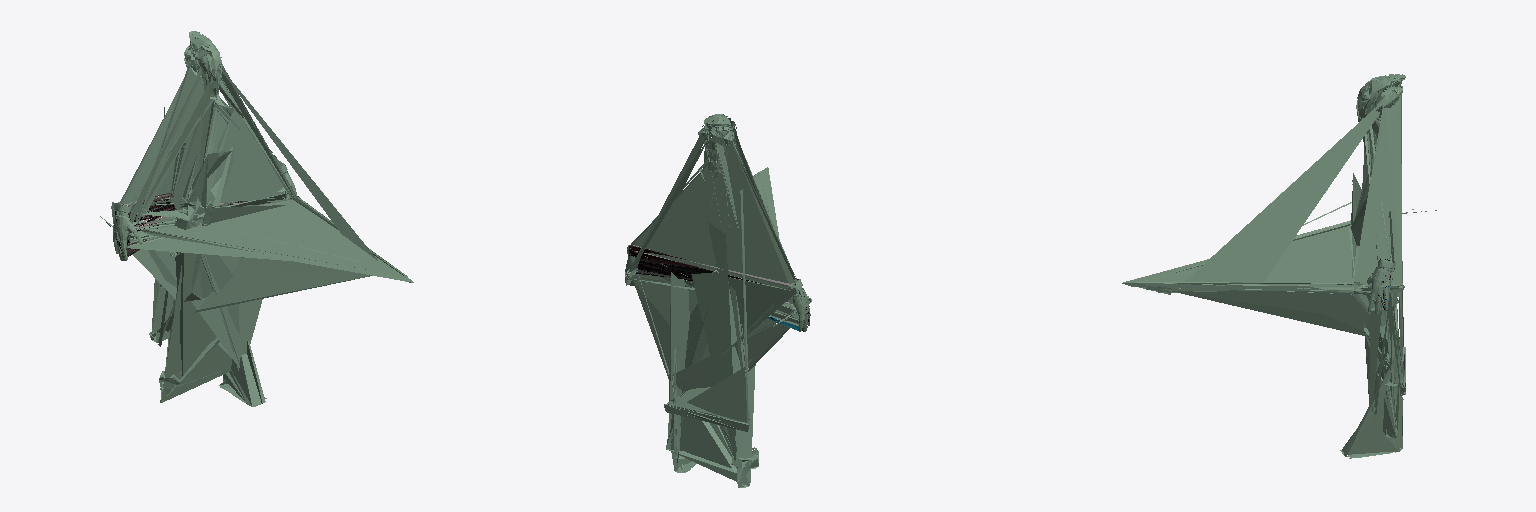
3 views of the same model, side by side, from view 1: azimuth 30°, elevation 25°; view 2: azimuth 150°, elevation 25°; view 3: azimuth 270°, elevation 25° (orthographic).
Parts seen in each view (by area): view 1: Model001_4_Material118_1.0_0.0_0.0, Model001_4_Material151_1.0_0.0_0.0; view 2: Model001_4_Material118_1.0_0.0_0.0, Model001_5_Material139_1.0_0.0_0.0, Model001_4_Material151_1.0_0.0_0.0; view 3: Model001_4_Material118_1.0_0.0_0.0, Model001_4_Material151_1.0_0.0_0.0.
Boxes of the visible parts, x1=… form: Model001_4_Material118_1.0_0.0_0.0: x1=100, y1=31, x2=413, y2=406; Model001_4_Material151_1.0_0.0_0.0: x1=111, y1=162, x2=296, y2=260; Model001_4_Material118_1.0_0.0_0.0: x1=625, y1=114, x2=811, y2=487; Model001_5_Material139_1.0_0.0_0.0: x1=625, y1=245, x2=809, y2=330; Model001_4_Material151_1.0_0.0_0.0: x1=625, y1=245, x2=810, y2=331; Model001_4_Material118_1.0_0.0_0.0: x1=1122, y1=74, x2=1436, y2=458; Model001_4_Material151_1.0_0.0_0.0: x1=1367, y1=260, x2=1395, y2=314.
Bounding box in the file's own units: 0.9448 × 1.81 × 1.45.
5 materials, 2 textured.